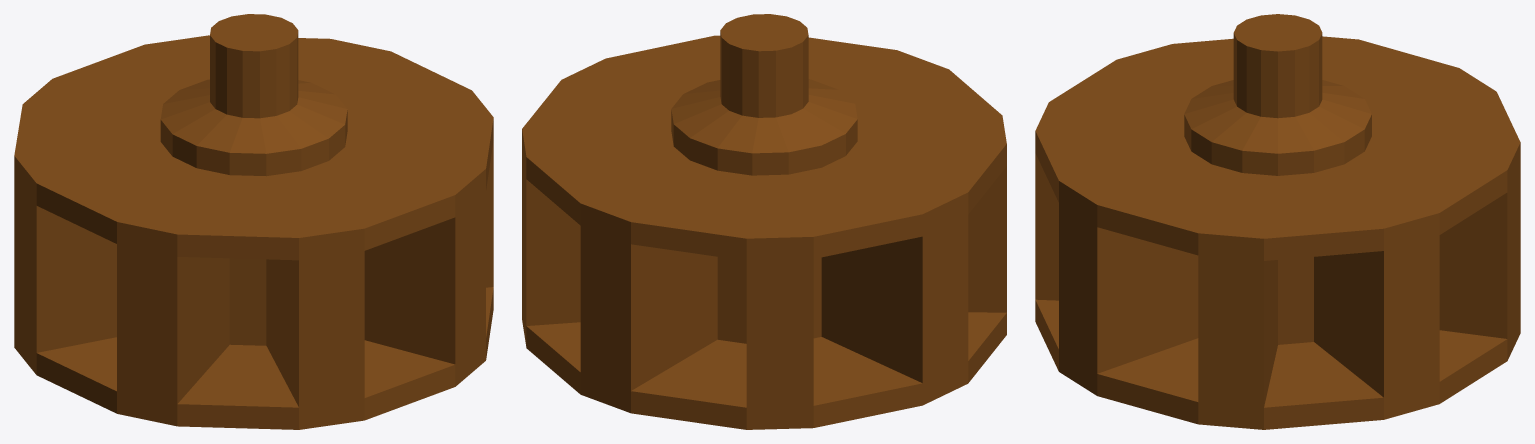
File: Water Wheel.fbx
3 views of the same model, side by side, from view 1: azimuth 30°, elevation 25°; view 2: azimuth 150°, elevation 25°; view 3: azimuth 270°, elevation 25° (orthographic).
Parts seen in each view (by area): view 1: Cylinder; view 2: Cylinder; view 3: Cylinder.
Boxes of the visible parts, x1,y1,x2,y2 form: Cylinder: [14, 14, 493, 429]; Cylinder: [522, 14, 1006, 429]; Cylinder: [1035, 14, 1520, 429].
Size of the model in its own units: 198 by 149 by 198.
